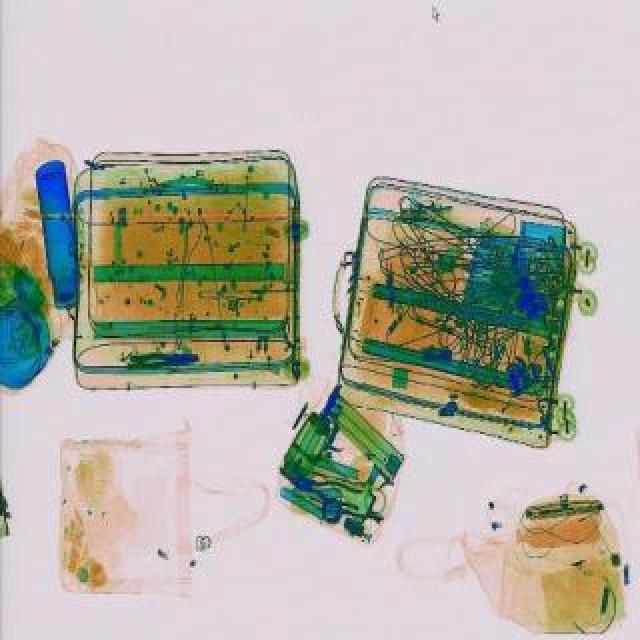wrench: (288, 466, 366, 510), (126, 348, 198, 368)
